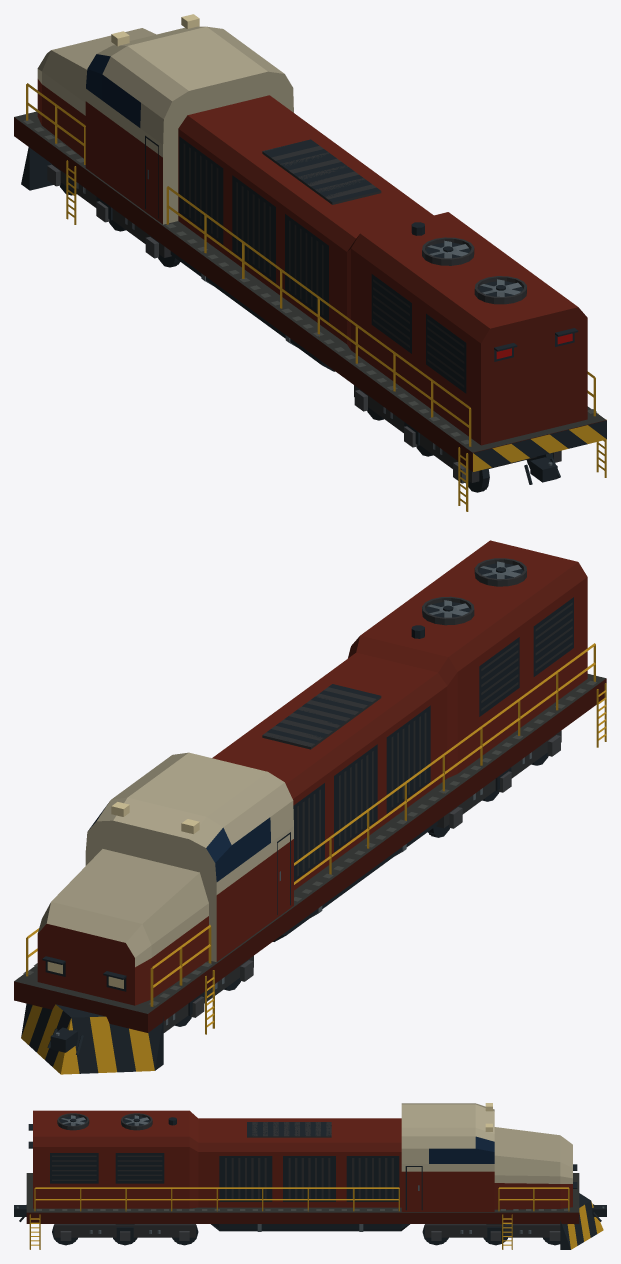
File: colony-locomotive.glb
3 views of the same model, one above another, from view 1: azimuth 30°, elevation 25°; view 2: azimuth 150°, elevation 25°; view 3: azimuth 270°, elevation 25° (orthographic). The views are drawn at different scales.
Parts seen in each view (by area): view 1: colony-locomotive (×2); view 2: colony-locomotive (×2); view 3: colony-locomotive (×2).
Boxes of the visible parts, x1,y1,x2,y2 form: colony-locomotive (×2): (14,14,606,511); colony-locomotive (×2): (14,540,606,1074); colony-locomotive (×2): (14,1103,606,1249).
Size of the model in its own units: 9.22 by 12.5 by 56.
